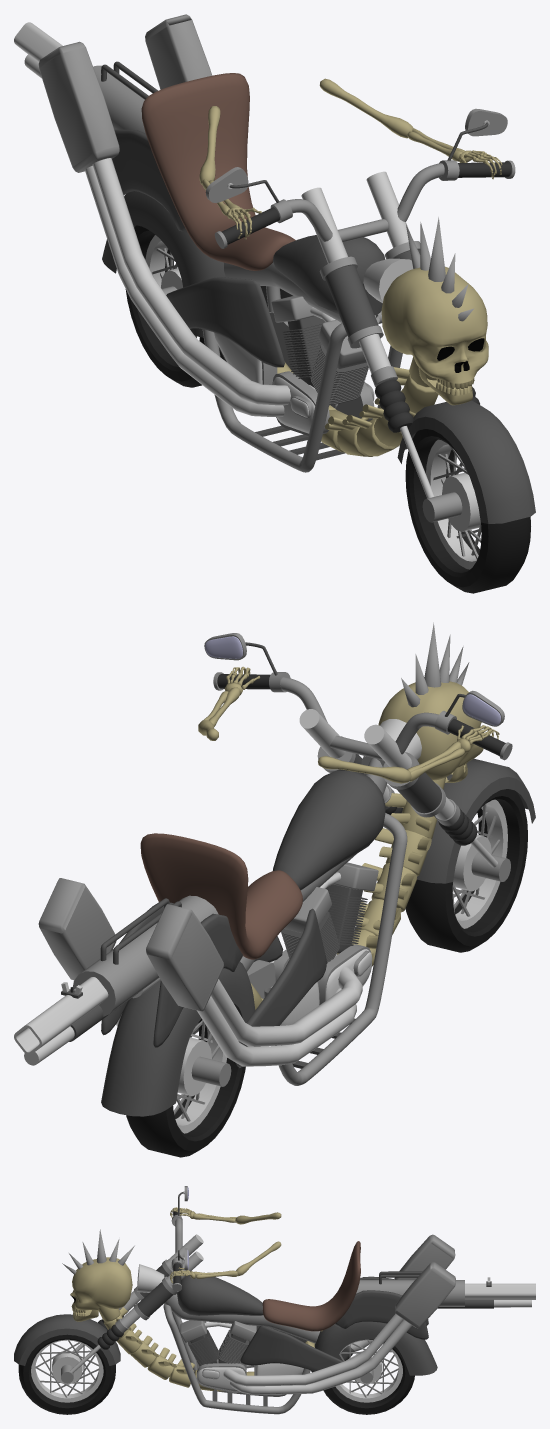
File: Bike!9.fbx
3 views of the same model, one above another, from view 1: azimuth 30°, elevation 25°; view 2: azimuth 150°, elevation 25°; view 3: azimuth 270°, elevation 25° (orthographic). The views are drawn at different scales.
Visible parts, largest first — view 1: Plane.012, Cube.018, Cube, Cylinder.034, Cylinder.026, BézierCurve, Plane.013, BézierCurve.006, BézierCurve.001, Cube.039, Cube.038, Cylinder.021 (+28 smaller); view 2: Plane.012, Cube.018, Cube.039, Cube.038, Cylinder.026, BézierCurve.006, Cylinder.034, Cylinder.030, Plane.013, BézierCurve, Cube, Cylinder.040 (+30 smaller); view 3: Cube.018, Plane.012, Plane.013, Cube.038, Cube, Cube.039, Cylinder.026, Cylinder.034, BézierCurve, BézierCurve.001, BézierCurve.006, Plane.001 (+25 smaller).
Boxes of the visible parts, <box> form: Plane.012: <box>141,73,295,270</box>; Cube.018: <box>38,14,212,172</box>; Cube: <box>381,266,488,383</box>; Cylinder.034: <box>397,400,535,523</box>; Cylinder.026: <box>405,429,530,593</box>; BézierCurve: <box>92,158,315,405</box>; Plane.013: <box>166,277,292,367</box>; BézierCurve.006: <box>202,286,402,472</box>; BézierCurve.001: <box>85,165,337,416</box>; Cube.039: <box>102,191,225,337</box>; Cube.038: <box>273,235,385,313</box>; Cylinder.021: <box>301,171,410,373</box>; Plane.012: <box>140,833,302,959</box>; Cube.018: <box>38,878,223,1011</box>; Cube.039: <box>101,962,255,1116</box>; Cube.038: <box>273,770,385,890</box>; Cylinder.026: <box>405,789,527,952</box>; BézierCurve.006: <box>264,813,407,1085</box>; Cylinder.034: <box>417,758,535,883</box>; Cylinder.030: <box>126,1003,245,1157</box>; Plane.013: <box>235,908,326,1067</box>; BézierCurve: <box>211,954,362,1046</box>; Cube: <box>378,681,483,780</box>; Cylinder.040: <box>73,895,218,1016</box>; Cube.018: <box>394,1234,455,1328</box>; Plane.012: <box>262,1241,360,1331</box>; Plane.013: <box>240,1325,354,1371</box>; Cube.038: <box>177,1275,263,1315</box>; Cube: <box>70,1257,132,1310</box>; Cube.039: <box>311,1321,437,1375</box>; Cylinder.026: <box>18,1334,115,1414</box>; Cylinder.034: <box>14,1314,120,1365</box>; BézierCurve: <box>217,1314,403,1386</box>; BézierCurve.001: <box>230,1320,411,1394</box>; BézierCurve.006: <box>163,1304,310,1414</box>; Plane.001: <box>334,1276,428,1339</box>.
Bounding box in the file's own units: 135 × 156 × 382.
